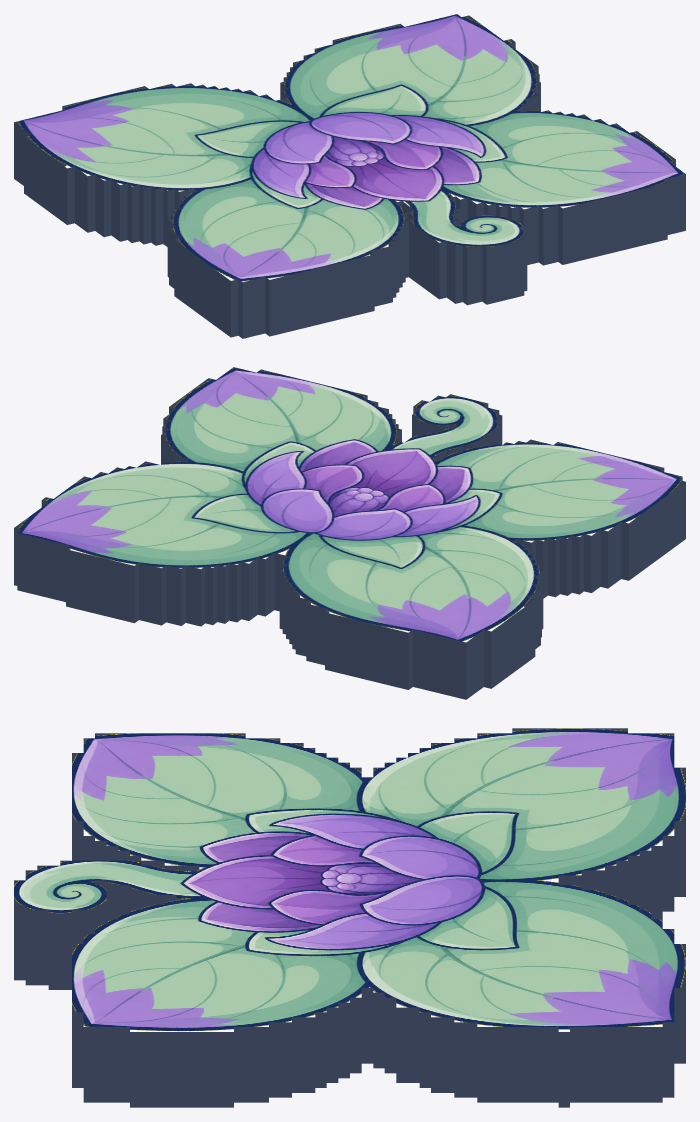
The model's file is boss_opening.glb.
3 views of the same model, one above another, from view 1: azimuth 30°, elevation 25°; view 2: azimuth 150°, elevation 25°; view 3: azimuth 270°, elevation 25° (orthographic). The views are drawn at different scales.
Parts seen in each view (by area): view 1: boss_opening; view 2: boss_opening; view 3: boss_opening.
Boxes of the visible parts, box(x1,y1,x2,y2) form: boss_opening: box(14, 14, 685, 338); boss_opening: box(14, 367, 685, 699); boss_opening: box(14, 728, 685, 1107).
Bounding box in the file's own units: 0.8611 × 0.1 × 0.8056.
Materials: 2 (1 with a texture image).
